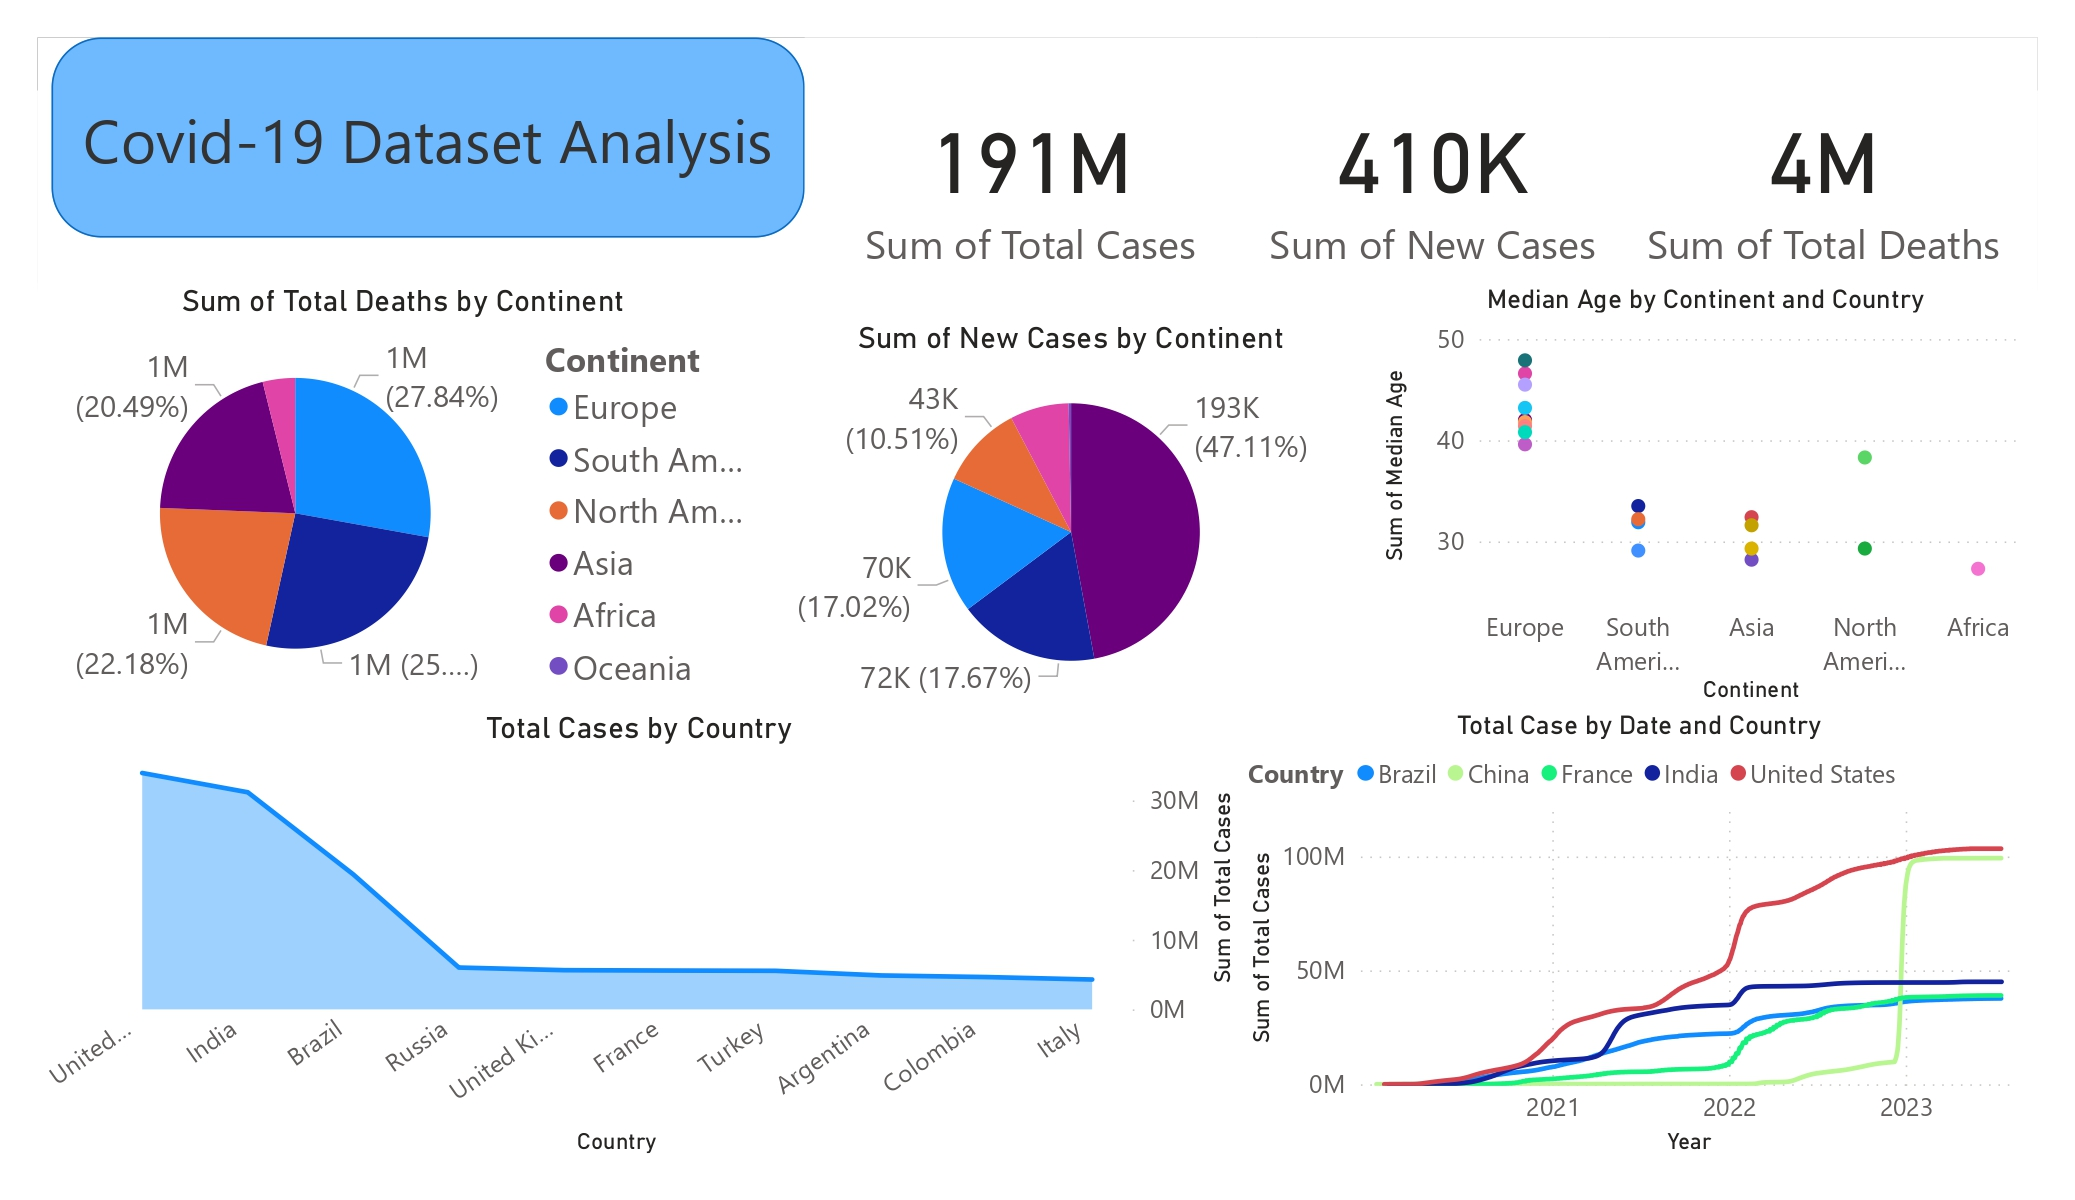

The dashboard page shown, as its layout file describes it:
{"tool":"powerbi","page":{"name":"Page 4","canvas":[1280,720],"ordinal":3},"visuals":[{"type":"shape","box":[9.4,0,481.4,128.4],"z":0},{"type":"card","fields":{"Values":["Sum(Covid Final.Total Cases)"]},"box":[490.9,0,288.8,181.2],"z":1},{"type":"card","fields":{"Values":["Sum(Covid Final.Total Deaths)"]},"box":[1006.3,0,273.7,181.2],"z":2},{"type":"card","fields":{"Values":["Sum(Covid Final.New Cases)"]},"box":[779.7,0,226.5,181.2],"z":3},{"type":"pieChart","fields":{"Category":["Covid Final.Continent"],"Y":["Sum(Covid Final.Total Deaths)"]},"box":[0,156.7,468.2,273.7],"z":4},{"type":"pieChart","fields":{"Y":["Sum(Covid Final.New Cases)"],"Category":["Covid Final.Continent"]},"box":[468.2,181.2,387,249.2],"z":5},{"type":"areaChart","title":"Total Cases by Country","fields":{"Category":["Covid Final.Country"],"Y2":["Sum(Covid Final.Total Cases)"]},"box":[0,430.4,770.3,288.8],"z":6},{"type":"lineChart","title":"Median Age by Continent and Country","fields":{"Category":["Covid Final.Continent"],"Y":["Sum(Covid Final.Median Age)"],"Series":["Covid Final.Country"]},"box":[855.2,156.7,424.8,273.7],"z":7},{"type":"lineChart","title":"Total Case by Date and Country","fields":{"Y":["Sum(Trend of Daily Cases.Total Cases)"],"Series":["Trend of Daily Cases.Country"],"Category":["Trend of Daily Cases.Date.Variation.Date Hierarchy.Year","Trend of Daily Cases.Date.Variation.Date Hierarchy.Quarter","Trend of Daily Cases.Date.Variation.Date Hierarchy.Month","Trend of Daily Cases.Date.Variation.Date Hierarchy.Day"]},"box":[770.3,430.4,509.7,288.8],"z":8}]}

Visuals, with their boxes on the page's 1280x720 design canvas (x1, y1, x2, y2). These are canvas units, not pixel positions in the 2075x1200 screenshot, which may show the page scaled, cropped or inside an application window:
shape: region(9, 0, 491, 128)
card - Sum(Covid Final.Total Cases): region(491, 0, 780, 181)
card - Sum(Covid Final.Total Deaths): region(1006, 0, 1280, 181)
card - Sum(Covid Final.New Cases): region(780, 0, 1006, 181)
pieChart - Covid Final.Continent x Sum(Covid Final.Total Deaths): region(0, 157, 468, 430)
pieChart - Sum(Covid Final.New Cases) x Covid Final.Continent: region(468, 181, 855, 430)
"Total Cases by Country" areaChart: region(0, 430, 770, 719)
"Median Age by Continent and Country" lineChart: region(855, 157, 1280, 430)
"Total Case by Date and Country" lineChart: region(770, 430, 1280, 719)
